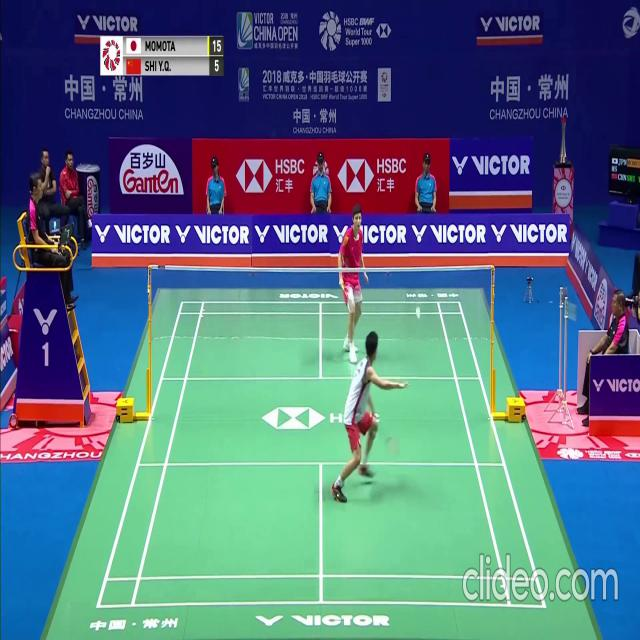Shuttlecock: (415, 309, 420, 316)
